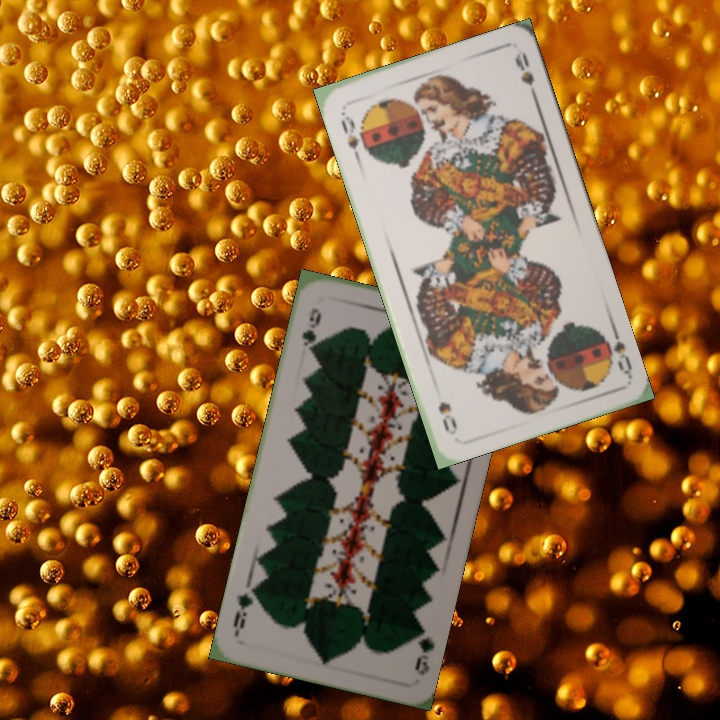G9: (410, 620, 437, 678), (298, 304, 324, 357)
SO: (595, 321, 635, 379), (336, 107, 369, 163)
